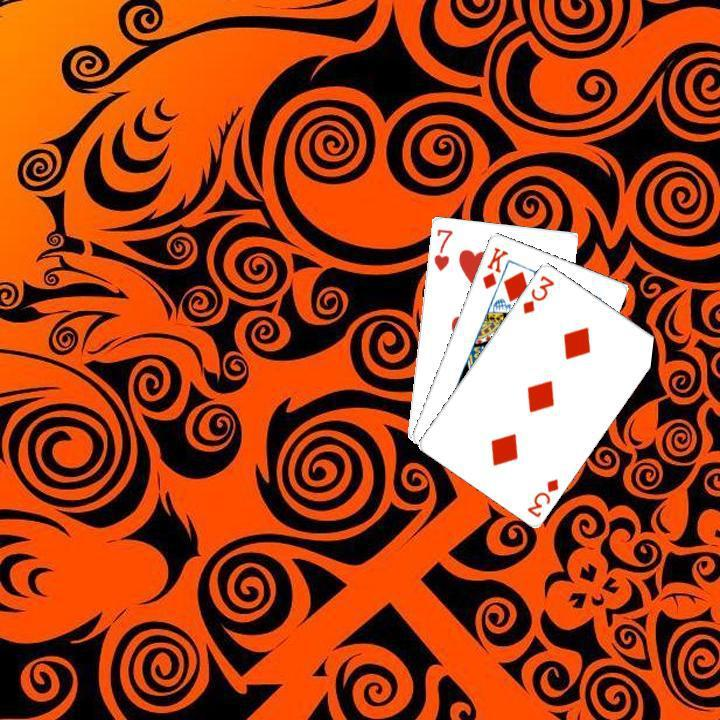3: (522, 474, 561, 519), (518, 270, 556, 316)
7: (429, 224, 454, 273)
K: (478, 242, 510, 291)
